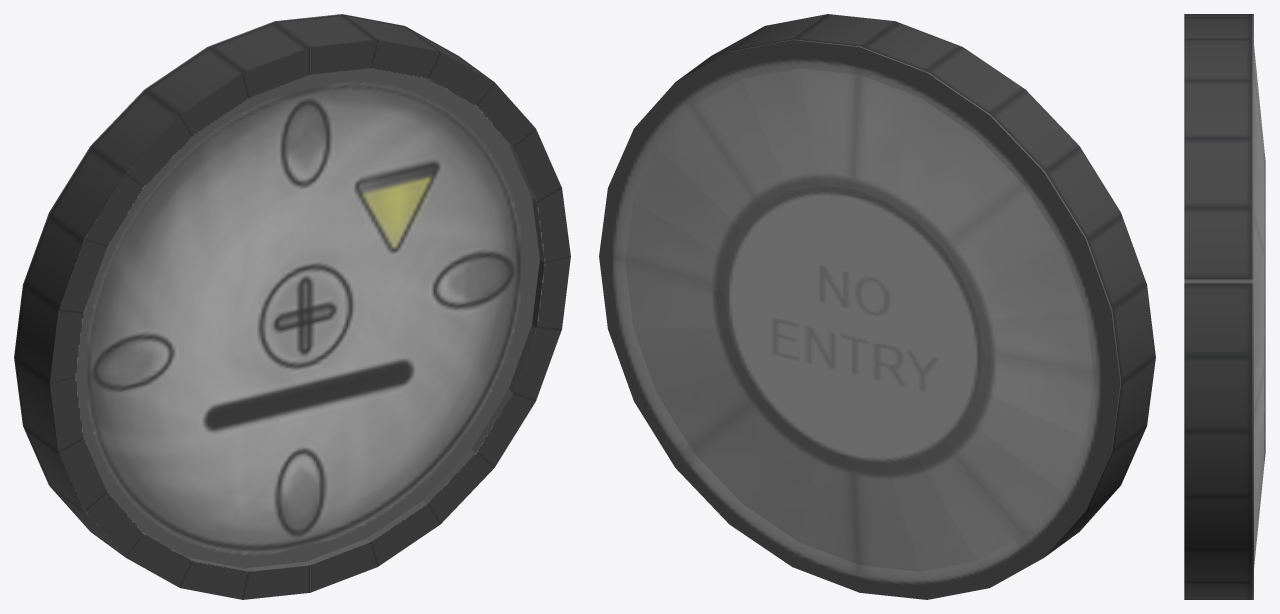
Rendered from Capstone.FBX.
The picture shows the model from 3 angles, left to right: view 1: azimuth 30°, elevation 25°; view 2: azimuth 150°, elevation 25°; view 3: azimuth 270°, elevation 25°; orthographic projection. The views are drawn at different scales.
Parts seen in each view (by area): view 1: AccessPort002; view 2: AccessPort002; view 3: AccessPort002.
Part boxes in pixels (x1,y1,x2,y2): AccessPort002: (14,14,570,599); AccessPort002: (599,14,1155,599); AccessPort002: (1184,14,1265,599).
Size of what is drawn, in the model's own units: 1 by 1 by 0.1382.
